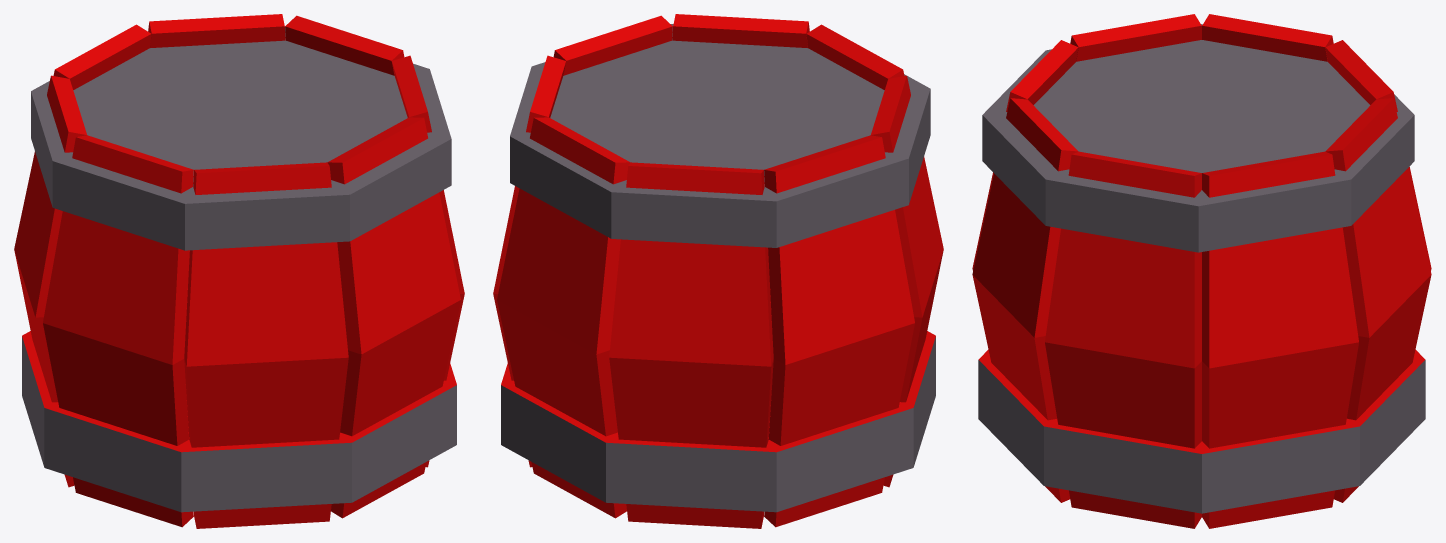
The model's file is barril.glb.
The picture shows the model from 3 angles, left to right: view 1: azimuth 30°, elevation 25°; view 2: azimuth 150°, elevation 25°; view 3: azimuth 270°, elevation 25°; orthographic projection.
Parts seen in each view (by area): view 1: Cube; view 2: Cube; view 3: Cube.
Boxes of the visible parts, left/top/right/bottom form: Cube: left=14, top=14, right=464, bottom=528; Cube: left=493, top=14, right=943, bottom=528; Cube: left=972, top=14, right=1431, bottom=528.
Bounding box in the file's own units: 2.36 × 2 × 2.36.
